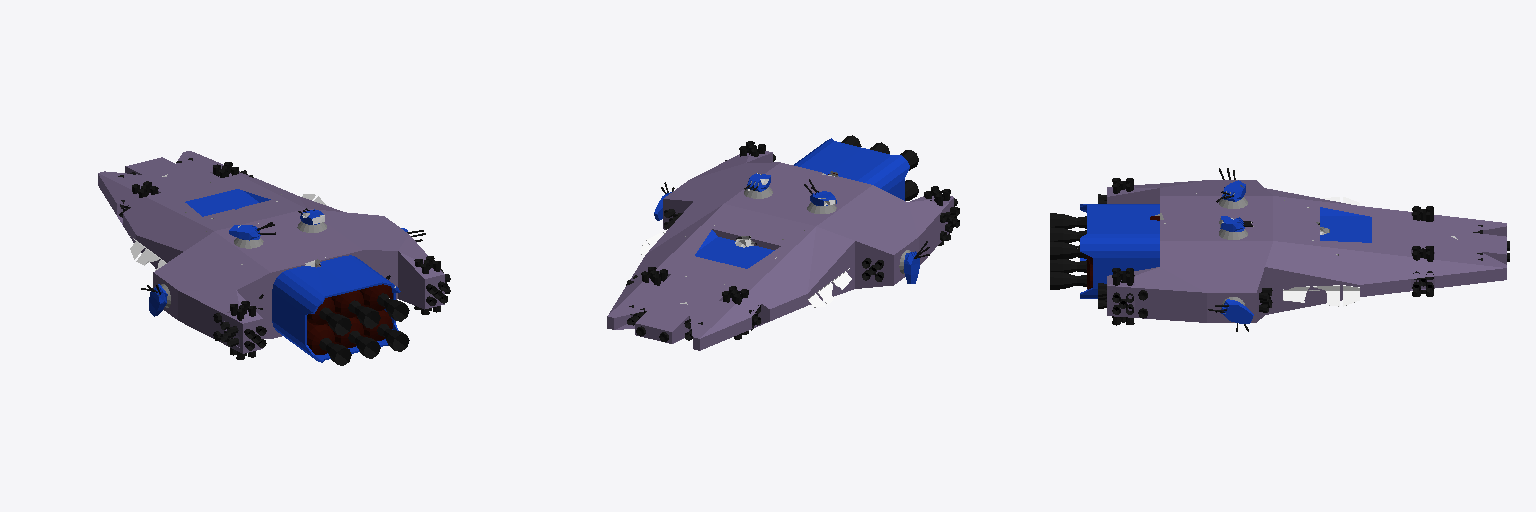
File: CruiserlightlyDamaged.obj
The picture shows the model from 3 angles: view 1: azimuth 30°, elevation 25°; view 2: azimuth 150°, elevation 25°; view 3: azimuth 270°, elevation 25°; orthographic projection.
Parts seen in each view (by area): view 1: Cube; view 2: Cube; view 3: Cube.
Part boxes in pixels (x1,y1,x2,y2): Cube: (98, 151, 450, 365); Cube: (607, 135, 959, 350); Cube: (1050, 168, 1509, 331).
Bounding box in the file's own units: 96.1 × 38.72 × 138.